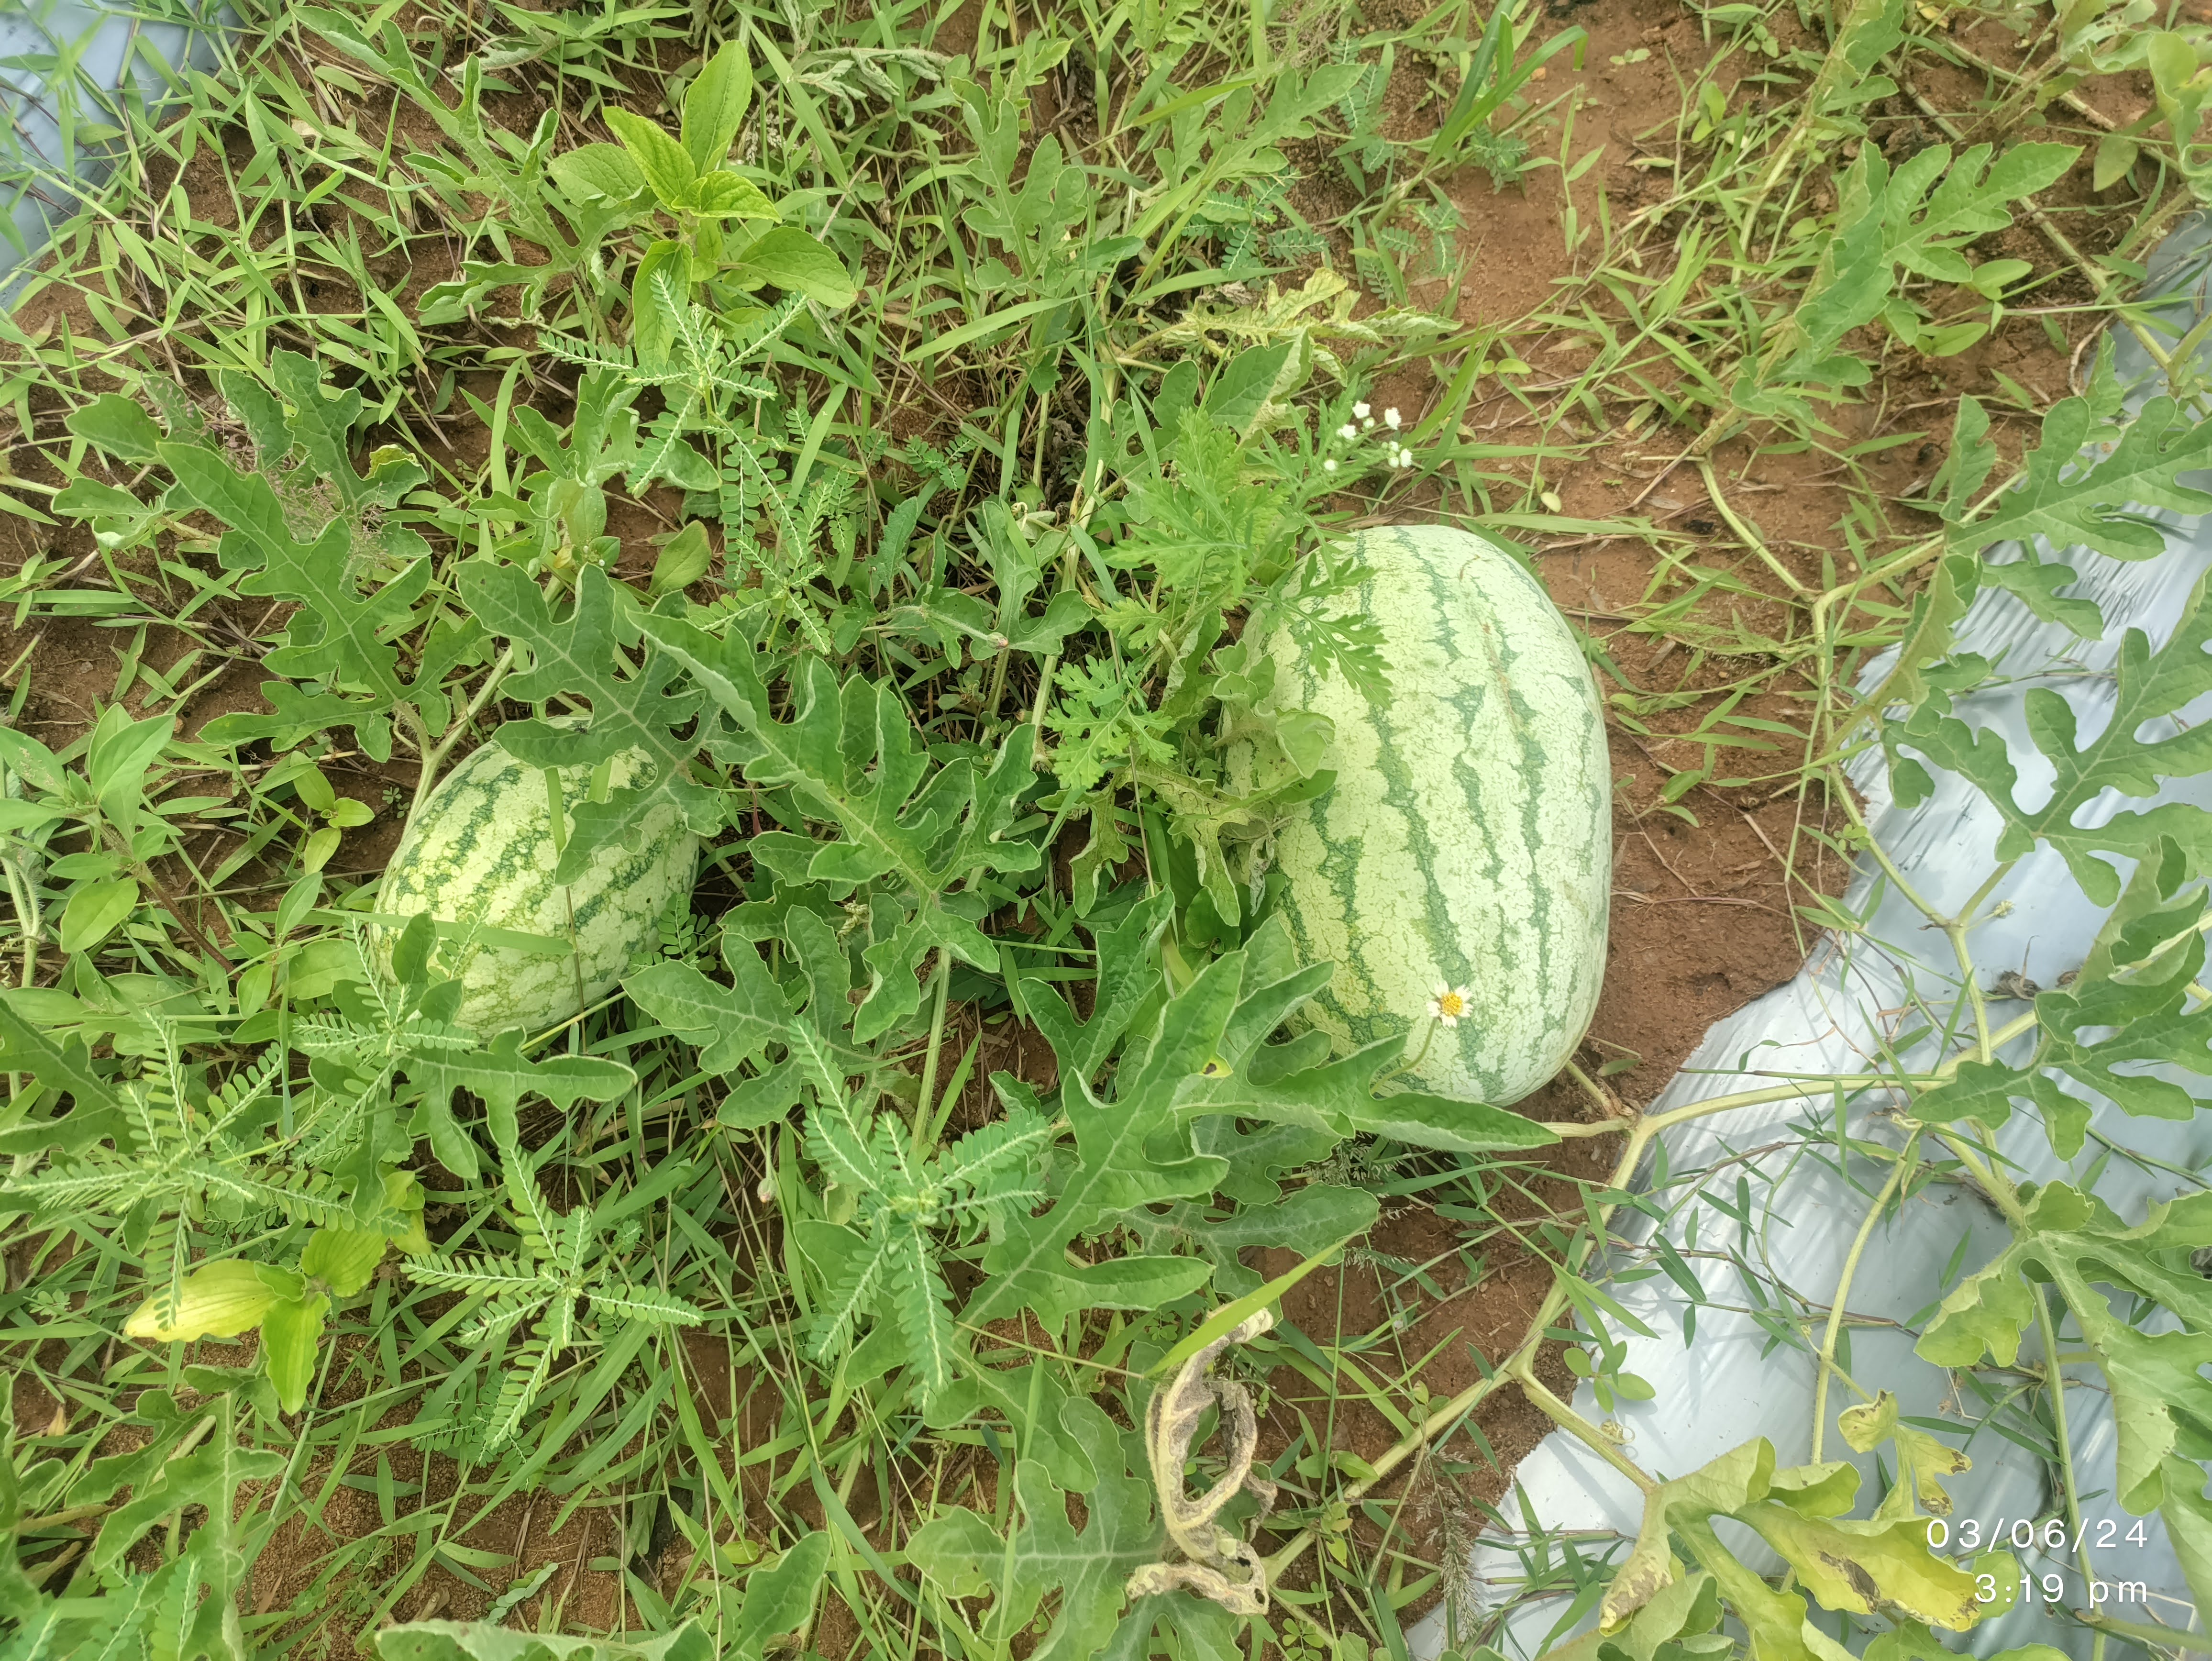good-to-harvest: (1137, 434, 1734, 1185), (375, 668, 707, 1078)
